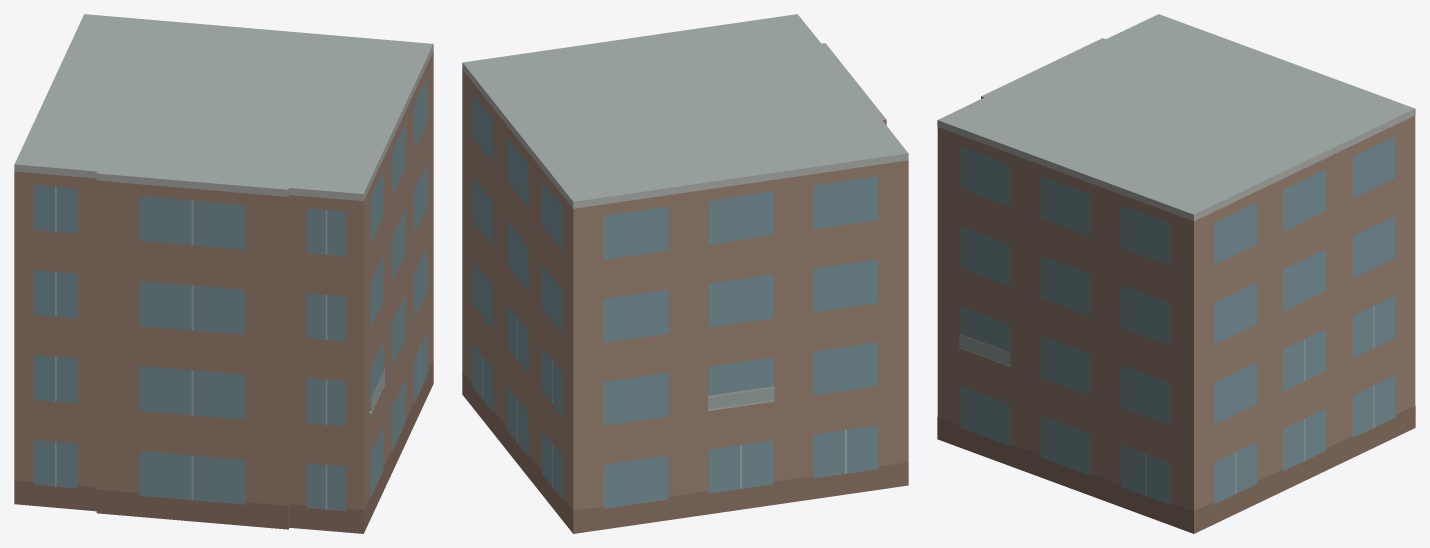
The model's file is survey-upis-32609664.glb.
3 renders of one model, left to right at view 1: azimuth 30°, elevation 25°; view 2: azimuth 150°, elevation 25°; view 3: azimuth 270°, elevation 25°, orthographic. The views are drawn at different scales.
Visible parts, largest first — view 1: survey-upis-32609664.tmp; view 2: survey-upis-32609664.tmp; view 3: survey-upis-32609664.tmp.
Boxes of the visible parts, x1,y1,x2,y2 form: survey-upis-32609664.tmp: (14,14,433,533); survey-upis-32609664.tmp: (462,14,908,533); survey-upis-32609664.tmp: (937,14,1415,533).
Bounding box in the file's own units: 15.79 × 11.7 × 15.89.
